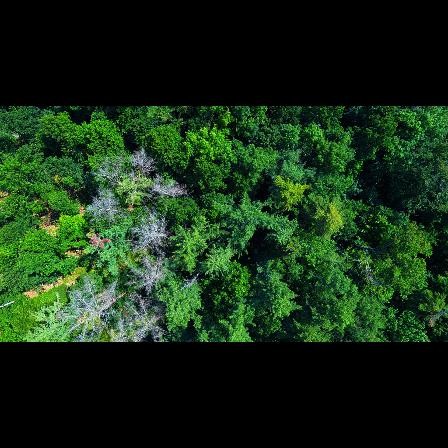Dead: (48, 282, 122, 339), (128, 298, 170, 340), (128, 252, 169, 292), (131, 210, 175, 245), (86, 189, 126, 221), (149, 180, 195, 202), (128, 149, 164, 173)
